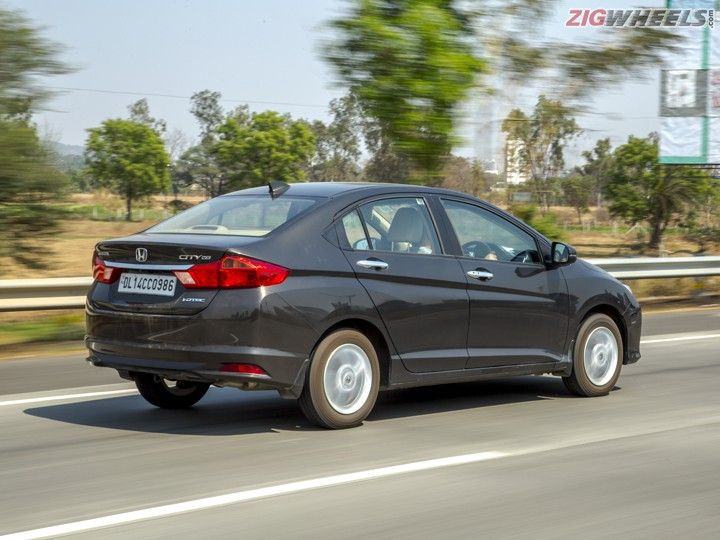car: (67, 170, 650, 444)
